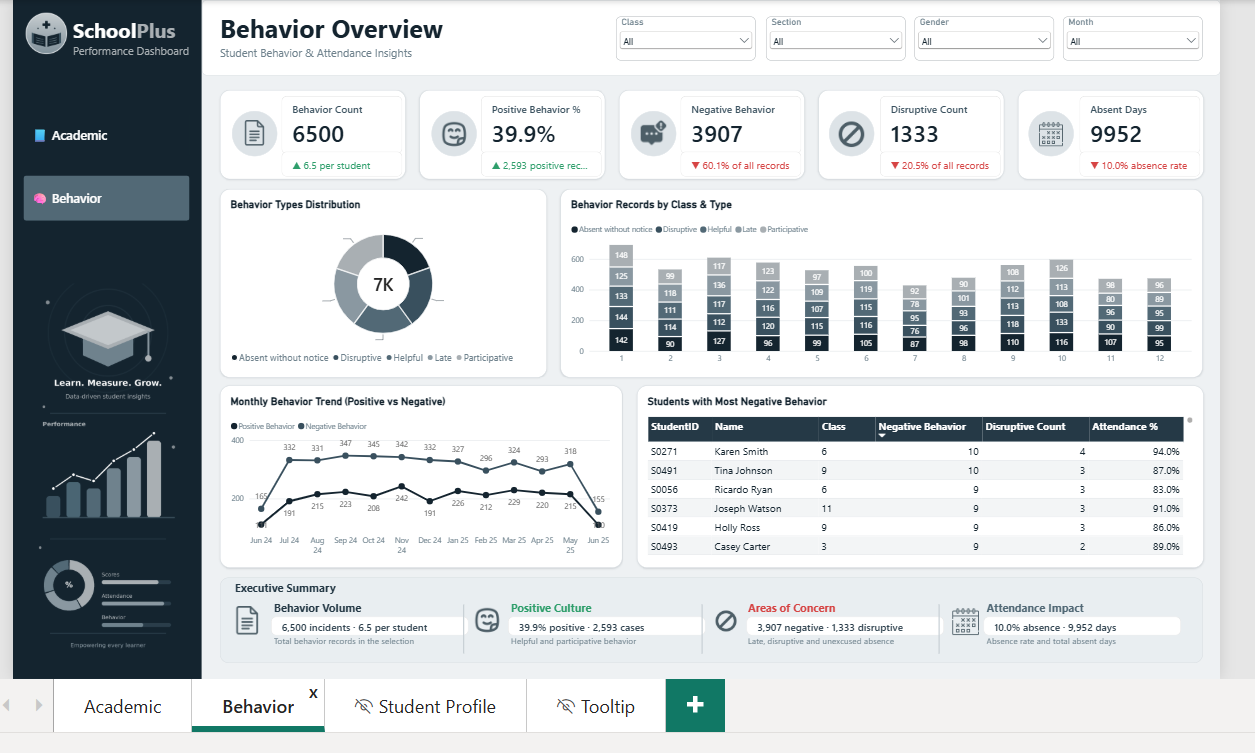

The page's visual inventory and layout, read from the dashboard file:
{"tool":"powerbi","page":{"name":"Behavior","canvas":[1920,1080],"ordinal":1},"visuals":[{"type":"actionButton","box":[18,165,264,72],"z":0},{"type":"textbox","box":[330,918,1563,136],"z":1000},{"type":"textbox","box":[352,924,400,28],"z":2000},{"type":"textbox","box":[352,956,56,56],"z":3000},{"type":"textbox","box":[414,954,300,26],"z":4000},{"type":"cardVisual","fields":{"Data":["_Measures.ES Behavior 1"]},"box":[410,980,314,30],"z":5000},{"type":"textbox","box":[414,1010,300,38],"z":6000},{"type":"textbox","box":[716,962,2,78],"z":7000},{"type":"textbox","box":[730,956,56,56],"z":8000},{"type":"textbox","box":[792,954,300,26],"z":9000},{"type":"cardVisual","fields":{"Data":["_Measures.ES Behavior 2"]},"box":[788,980,314,30],"z":10000},{"type":"textbox","box":[792,1010,300,38],"z":11000},{"type":"textbox","box":[1094,962,2,78],"z":12000},{"type":"textbox","box":[1108,956,56,56],"z":13000},{"type":"textbox","box":[0,0,300,1080],"z":14000},{"type":"textbox","box":[1170,954,300,26],"z":15000},{"type":"textbox","box":[96,26,190,44],"z":16000},{"type":"cardVisual","fields":{"Data":["_Measures.ES Behavior 3"]},"box":[1166,980,314,30],"z":17000},{"type":"textbox","box":[1170,1010,300,38],"z":18000},{"type":"textbox","box":[96,68,190,26],"z":19000},{"type":"actionButton","box":[16,180,264,72],"z":20000},{"type":"textbox","box":[1472,962,2,78],"z":21000},{"type":"textbox","box":[1486,956,56,56],"z":22000},{"type":"actionButton","box":[16,280,264,72],"z":23000},{"type":"textbox","box":[300,0,1620,120],"z":24000},{"type":"textbox","box":[1548,954,300,26],"z":25000},{"type":"textbox","box":[330,16,600,56],"z":26000},{"type":"cardVisual","fields":{"Data":["_Measures.ES Behavior 4"]},"box":[1544,980,314,30],"z":27000},{"type":"textbox","box":[330,72,600,34],"z":28000},{"type":"textbox","box":[1548,1010,300,38],"z":29000},{"type":"slicer","fields":{"Values":["Students.Class"]},"box":[960,27,222,70],"z":30000},{"type":"image","box":[18,450,264,600],"z":30000},{"type":"image","box":[20,20,68,68],"z":31000},{"type":"slicer","fields":{"Values":["Students.Section"]},"box":[1197,27,222,70],"z":31000},{"type":"slicer","fields":{"Values":["Students.Gender"]},"box":[1434,27,222,70],"z":32000},{"type":"slicer","fields":{"Values":["Calendar.MonthYear"]},"box":[1671,27,222,70],"z":33000},{"type":"textbox","box":[330,142,295,142],"z":34000},{"type":"textbox","box":[348,177,72,72],"z":35000},{"type":"cardVisual","fields":{"Data":["_Measures.Behavior Count"]},"box":[428,152,192,92],"z":36000},{"type":"cardVisual","fields":{"Data":["_Measures.KPI Sub Incidents"]},"box":[428,240,192,40],"z":37000},{"type":"textbox","box":[647,142,295,142],"z":38000},{"type":"textbox","box":[665,177,72,72],"z":39000},{"type":"cardVisual","fields":{"Data":["_Measures.Positive Behavior %"]},"box":[745,152,192,92],"z":40000},{"type":"cardVisual","fields":{"Data":["_Measures.KPI Sub Positive"]},"box":[745,240,192,40],"z":41000},{"type":"textbox","box":[964,142,295,142],"z":42000},{"type":"textbox","box":[982,177,72,72],"z":43000},{"type":"cardVisual","fields":{"Data":["_Measures.Negative Behavior"]},"box":[1062,152,192,92],"z":44000},{"type":"cardVisual","fields":{"Data":["_Measures.KPI Sub Negative"]},"box":[1062,240,192,40],"z":45000},{"type":"textbox","box":[1281,142,295,142],"z":46000},{"type":"textbox","box":[1299,177,72,72],"z":47000},{"type":"cardVisual","fields":{"Data":["_Measures.Disruptive Count"]},"box":[1379,152,192,92],"z":48000},{"type":"cardVisual","fields":{"Data":["_Measures.KPI Sub Disruptive"]},"box":[1379,240,192,40],"z":49000},{"type":"textbox","box":[1598,142,295,142],"z":50000},{"type":"textbox","box":[1616,177,72,72],"z":51000},{"type":"cardVisual","fields":{"Data":["_Measures.Absent Days"]},"box":[1696,152,192,92],"z":52000},{"type":"cardVisual","fields":{"Data":["_Measures.KPI Sub Absent"]},"box":[1696,240,192,40],"z":53000},{"type":"donutChart","title":"Behavior Types Distribution","fields":{"Category":["Behavior.BehaviorType"],"Y":["_Measures.Behavior Count"]},"box":[330,300,520,300],"z":54000},{"type":"columnChart","title":"Behavior Records by Class & Type","fields":{"Category":["Students.Class"],"Series":["Behavior.BehaviorType"],"Y":["_Measures.Behavior Count"]},"box":[872,300,1021,300],"z":55000},{"type":"lineChart","title":"Monthly Behavior Trend (Positive vs Negative)","fields":{"Category":["Calendar.MonthYear"],"Y":["_Measures.Positive Behavior","_Measures.Negative Behavior"]},"box":[330,614,640,290],"z":56000},{"type":"tableEx","title":"Students with Most Negative Behavior","fields":{"Values":["Students.StudentID","Students.Name","Students.Class","_Measures.Negative Behavior","_Measures.Disruptive Count","_Measures.Attendance %"]},"box":[992,614,901,290],"z":57000},{"type":"image","box":[336.4,190.9,95.4,40.6],"z":58000},{"type":"image","box":[653.7,190.9,95.4,45.3],"z":59000},{"type":"image","box":[971.1,186.1,95.4,50.1],"z":60000},{"type":"image","box":[1286,193.3,95.4,40.6],"z":61000},{"type":"image","box":[1603.3,193.3,95.4,40.6],"z":62000},{"type":"image","box":[323.3,963.3,95.4,45.3],"z":63000},{"type":"image","box":[706.7,963.3,95.4,45.3],"z":64000},{"type":"image","box":[1096.7,970,73.3,33.3],"z":65000},{"type":"image","box":[1466.7,966.7,95.4,45.3],"z":66000}]}

Visuals, with their boxes on the page's 1920x1080 design canvas (x1, y1, x2, y2). These are canvas units, not pixel positions in the 1255x753 screenshot, which may show the page scaled, cropped or inside an application window:
actionButton: <box>18,165,282,237</box>
textbox: <box>330,918,1893,1054</box>
textbox: <box>352,924,752,952</box>
textbox: <box>352,956,408,1012</box>
textbox: <box>414,954,714,980</box>
cardVisual - _Measures.ES Behavior 1: <box>410,980,724,1010</box>
textbox: <box>414,1010,714,1048</box>
textbox: <box>716,962,718,1040</box>
textbox: <box>730,956,786,1012</box>
textbox: <box>792,954,1092,980</box>
cardVisual - _Measures.ES Behavior 2: <box>788,980,1102,1010</box>
textbox: <box>792,1010,1092,1048</box>
textbox: <box>1094,962,1096,1040</box>
textbox: <box>1108,956,1164,1012</box>
textbox: <box>0,0,300,1080</box>
textbox: <box>1170,954,1470,980</box>
textbox: <box>96,26,286,70</box>
cardVisual - _Measures.ES Behavior 3: <box>1166,980,1480,1010</box>
textbox: <box>1170,1010,1470,1048</box>
textbox: <box>96,68,286,94</box>
actionButton: <box>16,180,280,252</box>
textbox: <box>1472,962,1474,1040</box>
textbox: <box>1486,956,1542,1012</box>
actionButton: <box>16,280,280,352</box>
textbox: <box>300,0,1920,120</box>
textbox: <box>1548,954,1848,980</box>
textbox: <box>330,16,930,72</box>
cardVisual - _Measures.ES Behavior 4: <box>1544,980,1858,1010</box>
textbox: <box>330,72,930,106</box>
textbox: <box>1548,1010,1848,1048</box>
slicer - Students.Class: <box>960,27,1182,97</box>
image: <box>18,450,282,1050</box>
image: <box>20,20,88,88</box>
slicer - Students.Section: <box>1197,27,1419,97</box>
slicer - Students.Gender: <box>1434,27,1656,97</box>
slicer - Calendar.MonthYear: <box>1671,27,1893,97</box>
textbox: <box>330,142,625,284</box>
textbox: <box>348,177,420,249</box>
cardVisual - _Measures.Behavior Count: <box>428,152,620,244</box>
cardVisual - _Measures.KPI Sub Incidents: <box>428,240,620,280</box>
textbox: <box>647,142,942,284</box>
textbox: <box>665,177,737,249</box>
cardVisual - _Measures.Positive Behavior %: <box>745,152,937,244</box>
cardVisual - _Measures.KPI Sub Positive: <box>745,240,937,280</box>
textbox: <box>964,142,1259,284</box>
textbox: <box>982,177,1054,249</box>
cardVisual - _Measures.Negative Behavior: <box>1062,152,1254,244</box>
cardVisual - _Measures.KPI Sub Negative: <box>1062,240,1254,280</box>
textbox: <box>1281,142,1576,284</box>
textbox: <box>1299,177,1371,249</box>
cardVisual - _Measures.Disruptive Count: <box>1379,152,1571,244</box>
cardVisual - _Measures.KPI Sub Disruptive: <box>1379,240,1571,280</box>
textbox: <box>1598,142,1893,284</box>
textbox: <box>1616,177,1688,249</box>
cardVisual - _Measures.Absent Days: <box>1696,152,1888,244</box>
cardVisual - _Measures.KPI Sub Absent: <box>1696,240,1888,280</box>
"Behavior Types Distribution" donutChart: <box>330,300,850,600</box>
"Behavior Records by Class & Type" columnChart: <box>872,300,1893,600</box>
"Monthly Behavior Trend (Positive vs Negative)" lineChart: <box>330,614,970,904</box>
"Students with Most Negative Behavior" tableEx: <box>992,614,1893,904</box>
image: <box>336,191,432,232</box>
image: <box>654,191,749,236</box>
image: <box>971,186,1066,236</box>
image: <box>1286,193,1381,234</box>
image: <box>1603,193,1699,234</box>
image: <box>323,963,419,1009</box>
image: <box>707,963,802,1009</box>
image: <box>1097,970,1170,1003</box>
image: <box>1467,967,1562,1012</box>
